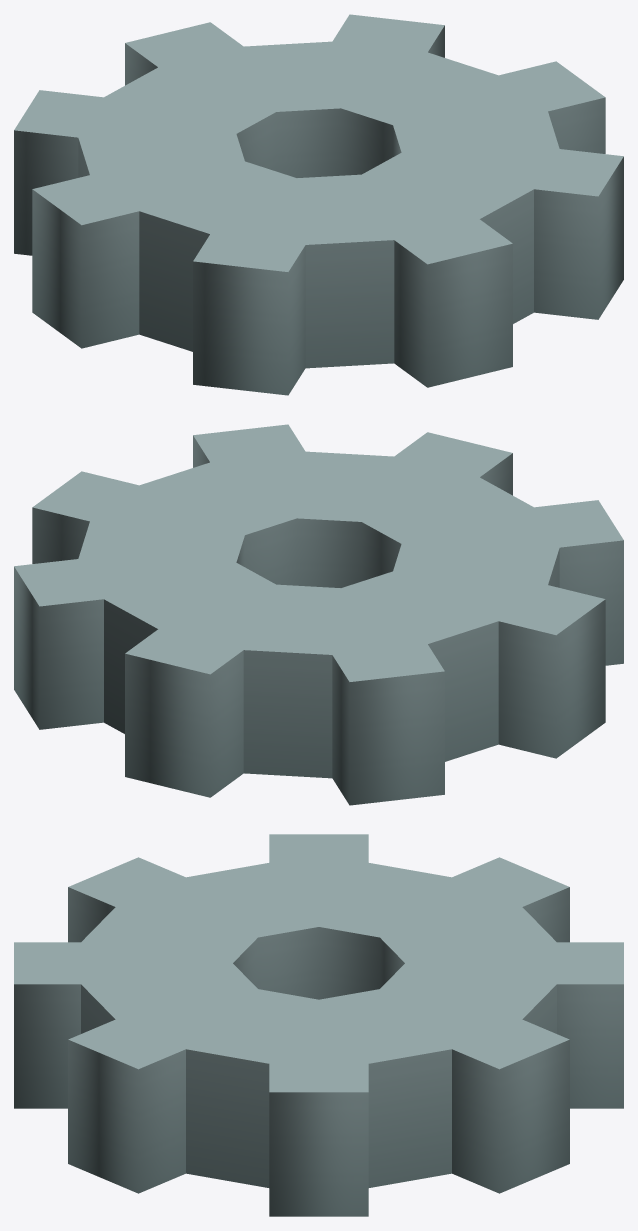
File: cog-a.glb
3 views of the same model, one above another, from view 1: azimuth 30°, elevation 25°; view 2: azimuth 150°, elevation 25°; view 3: azimuth 270°, elevation 25° (orthographic).
Visible parts, largest first — view 1: cog-a; view 2: cog-a; view 3: cog-a.
Boxes of the visible parts, x1,y1,x2,y2 form: cog-a: (14,14,623,395); cog-a: (14,424,623,805); cog-a: (14,834,623,1216).
Bounding box in the file's own units: 1 × 0.225 × 1.
Materials: 1 (1 with a texture image).
